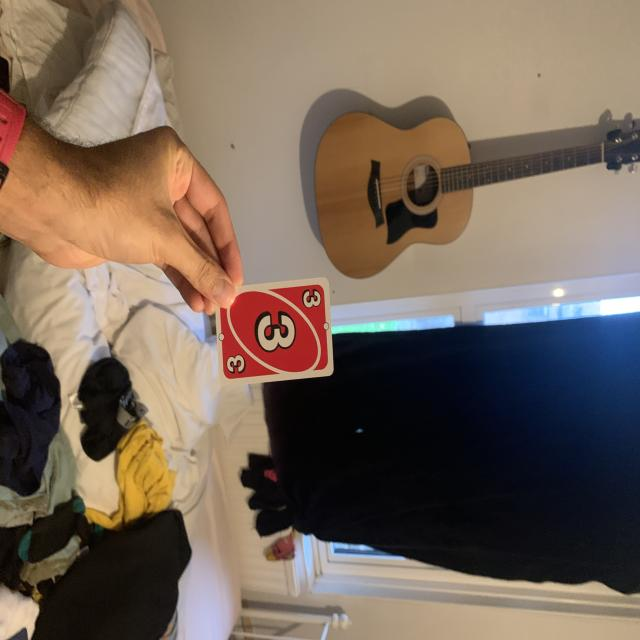lred-3: (299, 286, 323, 314)
